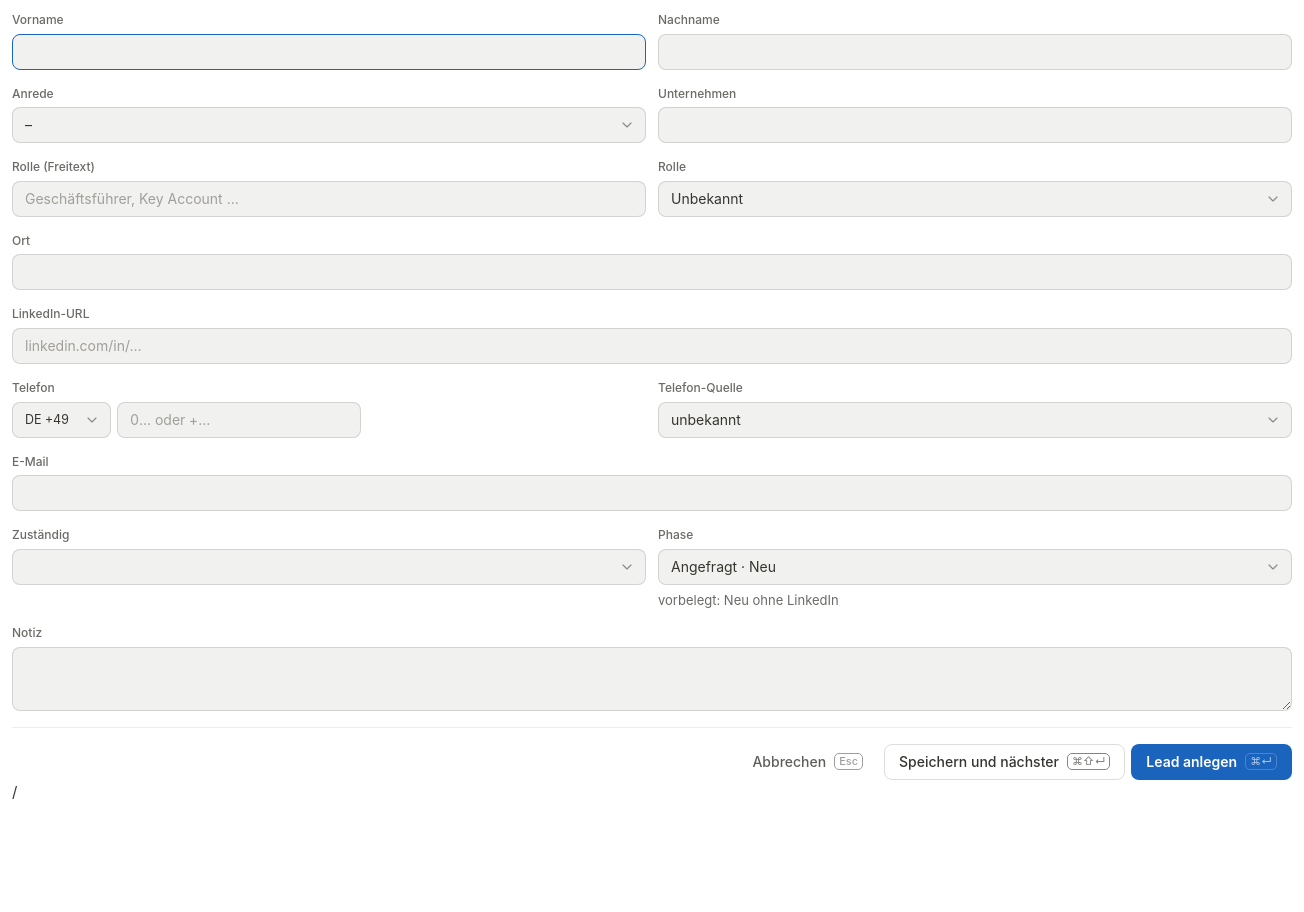
Test: LeadForm › Telefon-/E-Mail-Treffer sind nur eine Warnung – Anlegen bleibt möglich
Type "mara@beispiel.de" into the field labelled "E-Mail" at x=652, y=493, box [25,476,1279,510]
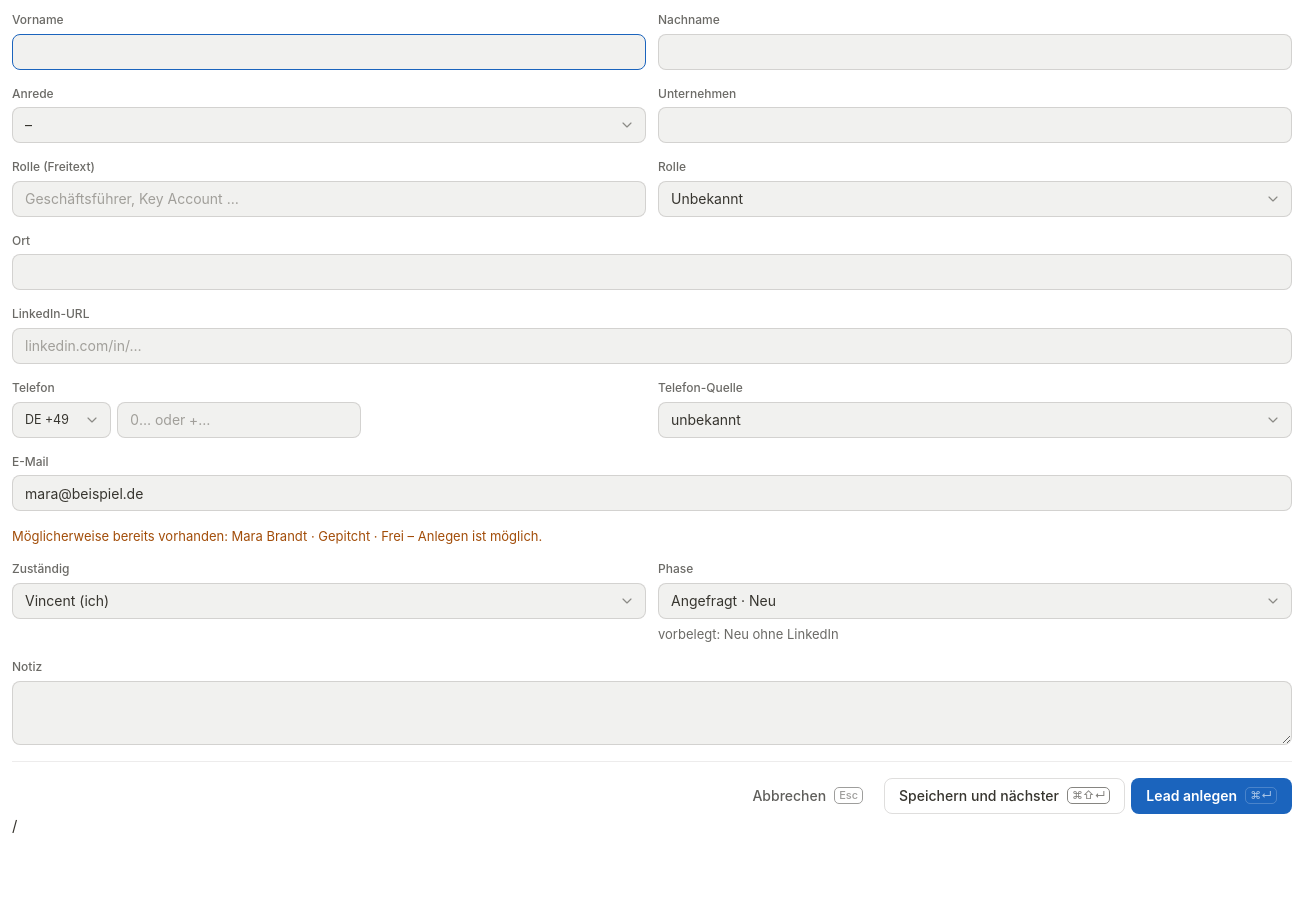
Check: the button "Lead anlegen ⌘↵" is enabled, box [1131,778,1292,814]
Check: the text "Möglicherweise bereits vorhanden" is shown, box [12,528,232,544]
